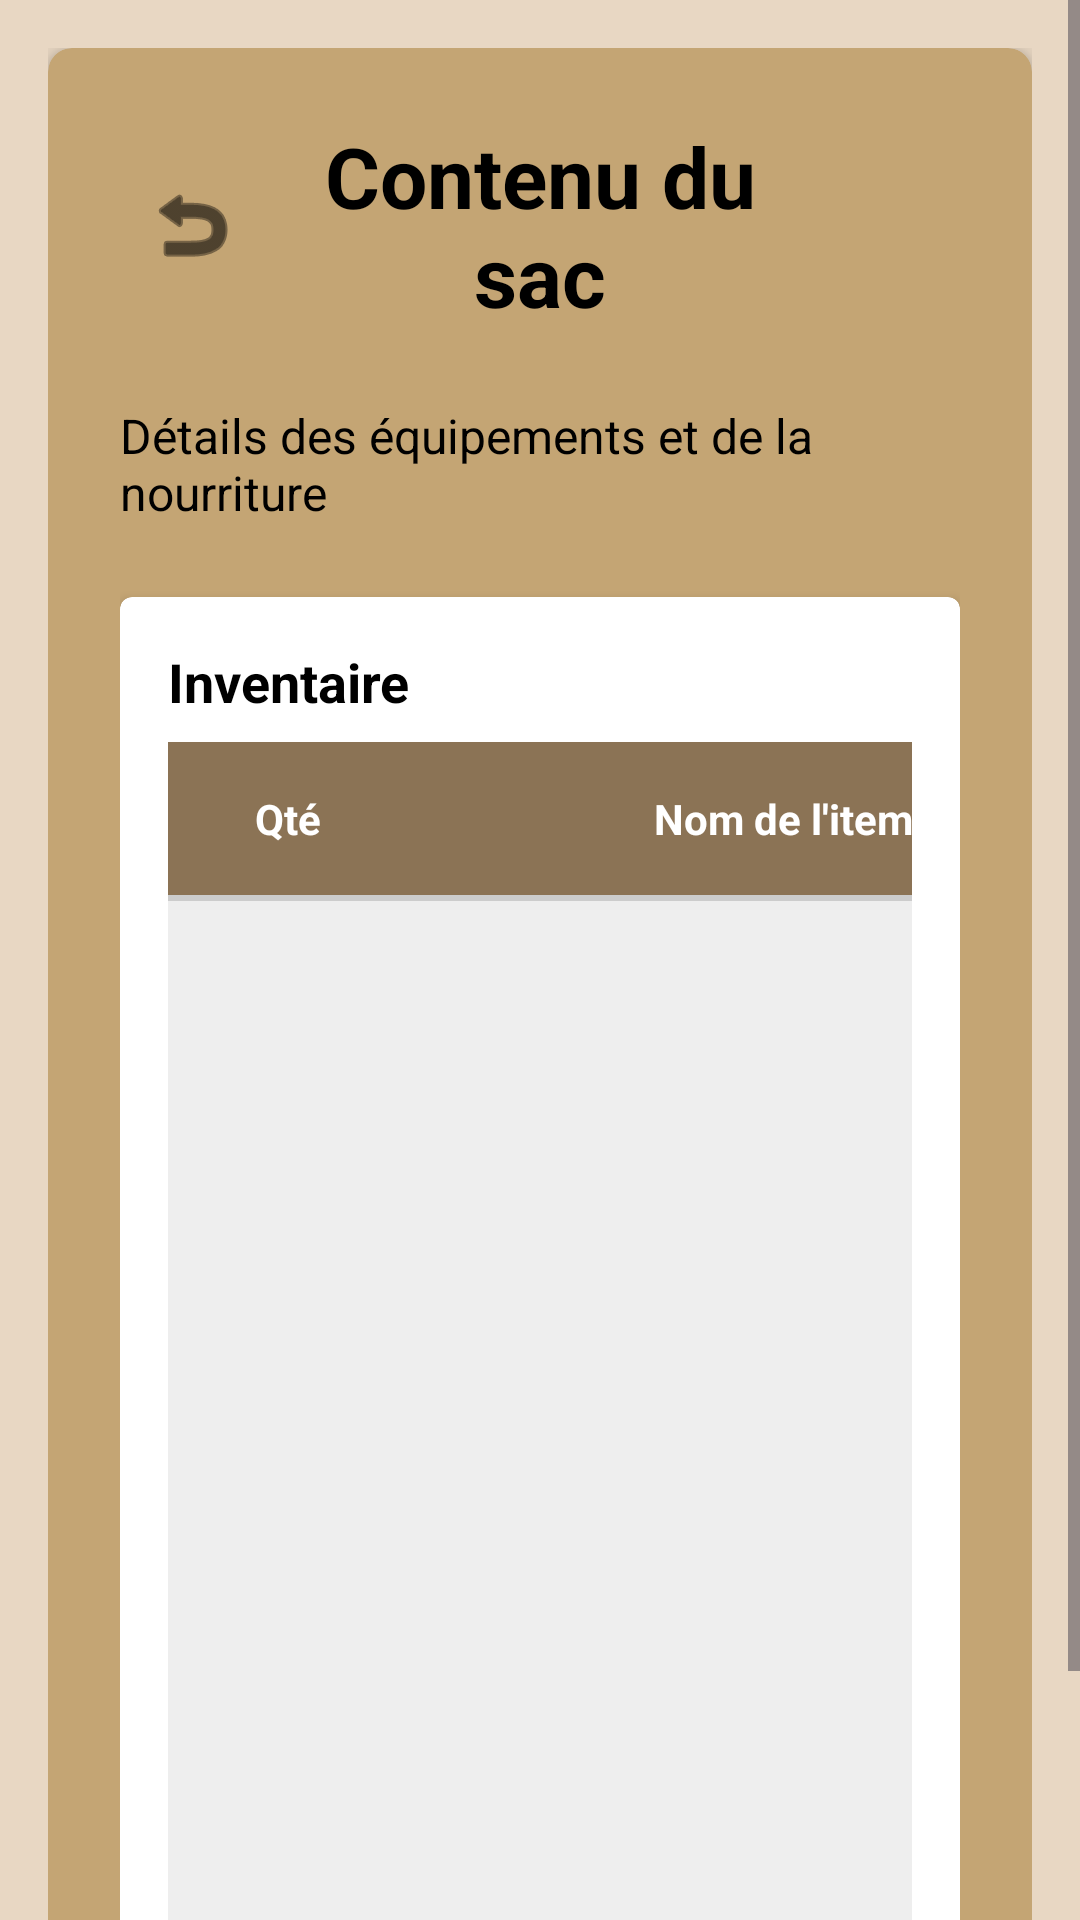

Icons on this 1080px x 1920px Android screen, each with its box as rect(x1, y1, x2, y2):
Retour: rect(159, 194, 228, 257)
